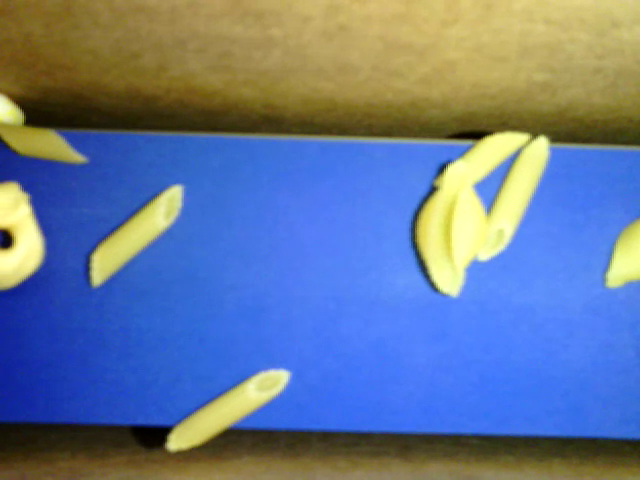penne: (164, 365, 291, 453), (88, 183, 183, 288), (478, 132, 552, 262), (433, 129, 532, 187), (1, 123, 89, 163)
shell: (413, 159, 490, 299), (605, 217, 639, 288)
tortellini: (1, 181, 46, 290)
